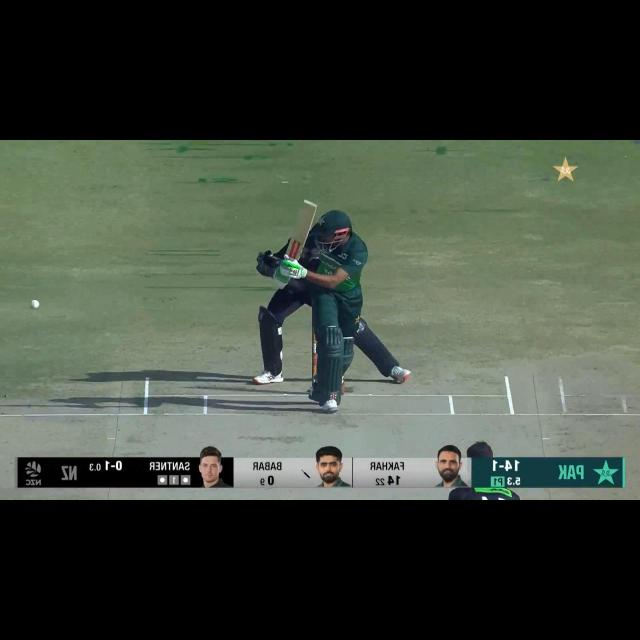bat: (288, 194, 322, 262)
toe: (299, 199, 318, 216)
